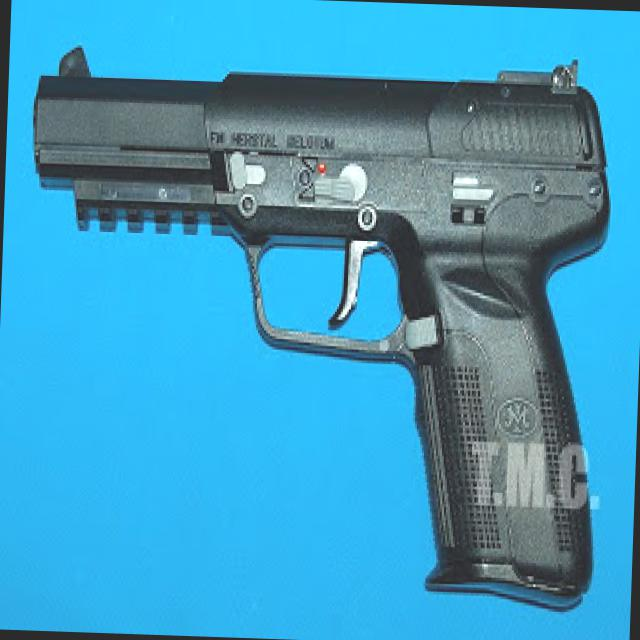handgun: (0, 29, 616, 627)
